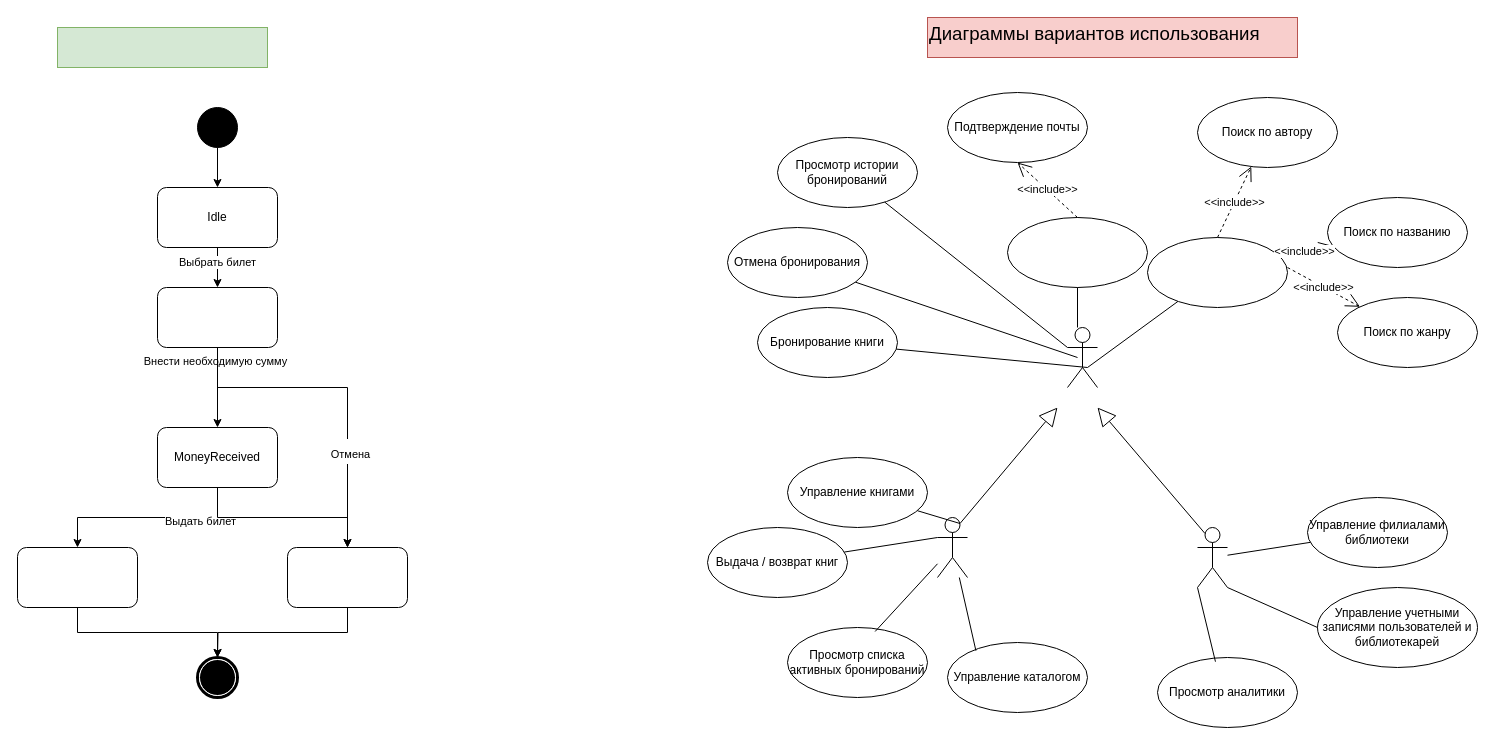
Some shapes in this 1495 by 745 pixel diagram are drawn without their labels. The shapes that lost their labels are listed below. From the top down, each one's centre as x and y in pixels, then its label:
point 162,47: Диаграмма состояния
point 1077,252: Регистрация пользователя
point 1217,272: Просмотр и поиск книг
point 217,317: WaitingForMoney
point 1082,357: Читатель
point 952,547: Библиотекарь
point 1212,557: Администратор
point 77,577: TicketDispensed
point 347,577: TransactionCanceled
